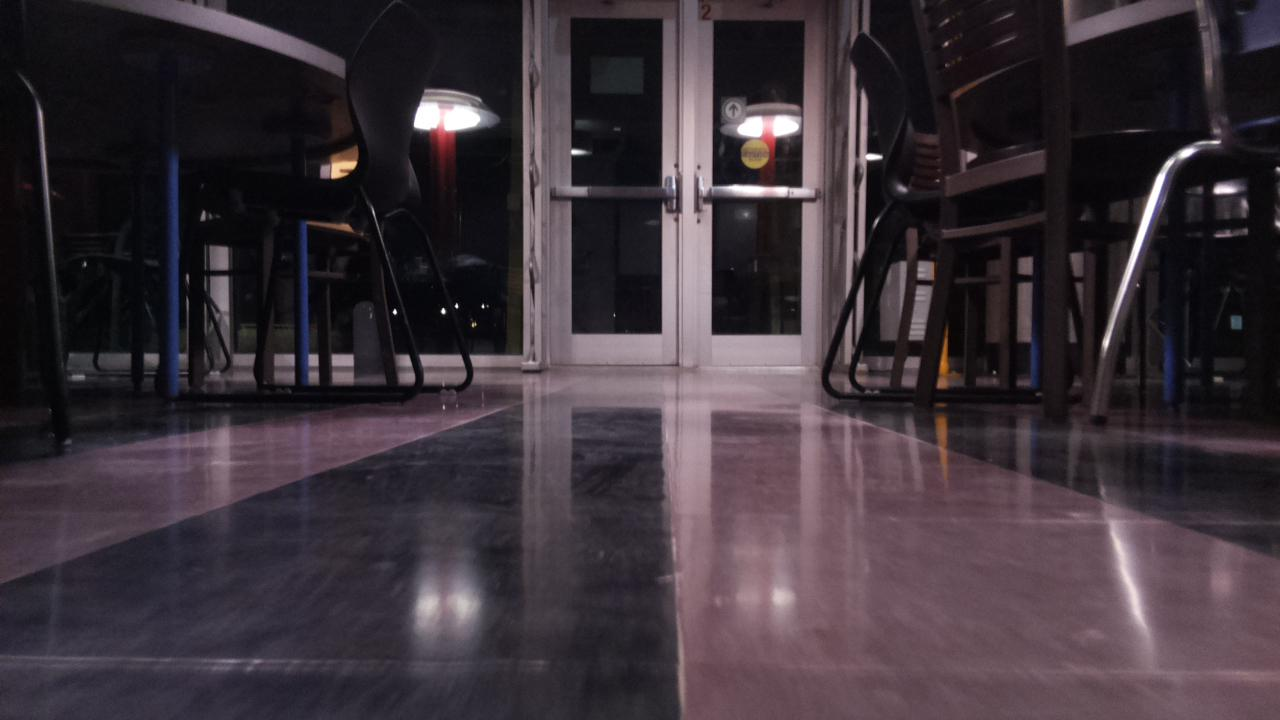door: (549, 1, 825, 364)
sign: (721, 97, 745, 122)
